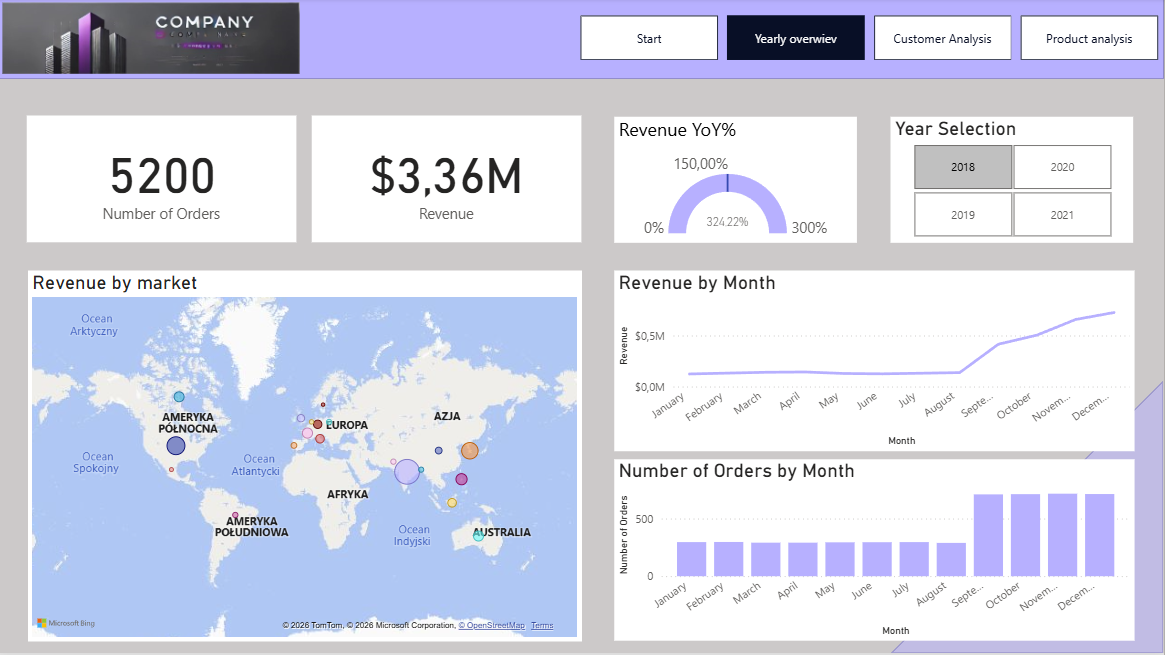

What the dashboard file says about the page in this screenshot:
{"tool":"powerbi","page":{"name":"Yearly overwiev","canvas":[1280,720],"ordinal":1},"visuals":[{"type":"slicer","title":"Year Selection","fields":{"Values":["dim_Date.Date.Variation.Date Hierarchy.Year"]},"box":[980.4,130.3,266.5,138.1],"z":1000},{"type":"shape","box":[980.4,420.2,299.6,299.6],"z":1500},{"type":"lineChart","fields":{"Y":["Sum(fact_sales_monthly.Revenue)"],"Category":["dim_Date.Date.Variation.Date Hierarchy.Month"]},"box":[676,299.6,570.9,198.4],"z":2000},{"type":"card","fields":{"Values":["_Measures.Count_Of_Orders"]},"box":[32.1,128.4,295.7,139.1],"z":3000},{"type":"card","fields":{"Values":["Sum(fact_sales_monthly.Revenue)"]},"box":[344.3,129.4,295.7,139.1],"z":4000},{"type":"gauge","title":"Revenue YoY%","fields":{"Y":["_Measures.Revenue YoY%"],"MinValue":["_Measures.base"],"TargetValue":["_Measures.goal"],"MaxValue":["_Measures.max"]},"box":[676,130.3,266.5,138.1],"z":5000},{"type":"map","title":"Revenue by market ","fields":{"Series":["dim_customer.market"],"Size":["Sum(fact_sales_monthly.Revenue)"],"Category":["dim_customer.market"]},"box":[33.1,299.6,606.9,406.6],"z":6000},{"type":"shape","box":[0,0,1280,88.9],"z":7000},{"type":"pageNavigator","box":[640,19.5,635.1,49.6],"z":8000},{"type":"clusteredColumnChart","fields":{"Y":["_Measures.Count_Of_Orders"],"Category":["dim_Date.Date.Variation.Date Hierarchy.Month"]},"box":[676,506.7,570.9,199.4],"z":9000},{"type":"image","box":[0,0,336.5,88.5],"z":10000}]}

Visuals, with their boxes in screenshot pixels (x1, y1, x2, y2), scaled from the page's 1280x720 canvas onto the 1165x655 screenshot:
"Year Selection" slicer: Rect(892, 119, 1135, 244)
shape: Rect(892, 382, 1164, 654)
lineChart - Sum(fact_sales_monthly.Revenue) x dim_Date.Date.Variation.Date Hierarchy.Month: Rect(615, 273, 1135, 453)
card - _Measures.Count_Of_Orders: Rect(29, 117, 298, 243)
card - Sum(fact_sales_monthly.Revenue): Rect(313, 118, 582, 244)
"Revenue YoY%" gauge: Rect(615, 119, 858, 244)
"Revenue by market " map: Rect(30, 273, 582, 642)
shape: Rect(0, 0, 1164, 81)
pageNavigator: Rect(582, 18, 1161, 63)
clusteredColumnChart - _Measures.Count_Of_Orders x dim_Date.Date.Variation.Date Hierarchy.Month: Rect(615, 461, 1135, 642)
image: Rect(0, 0, 306, 81)
